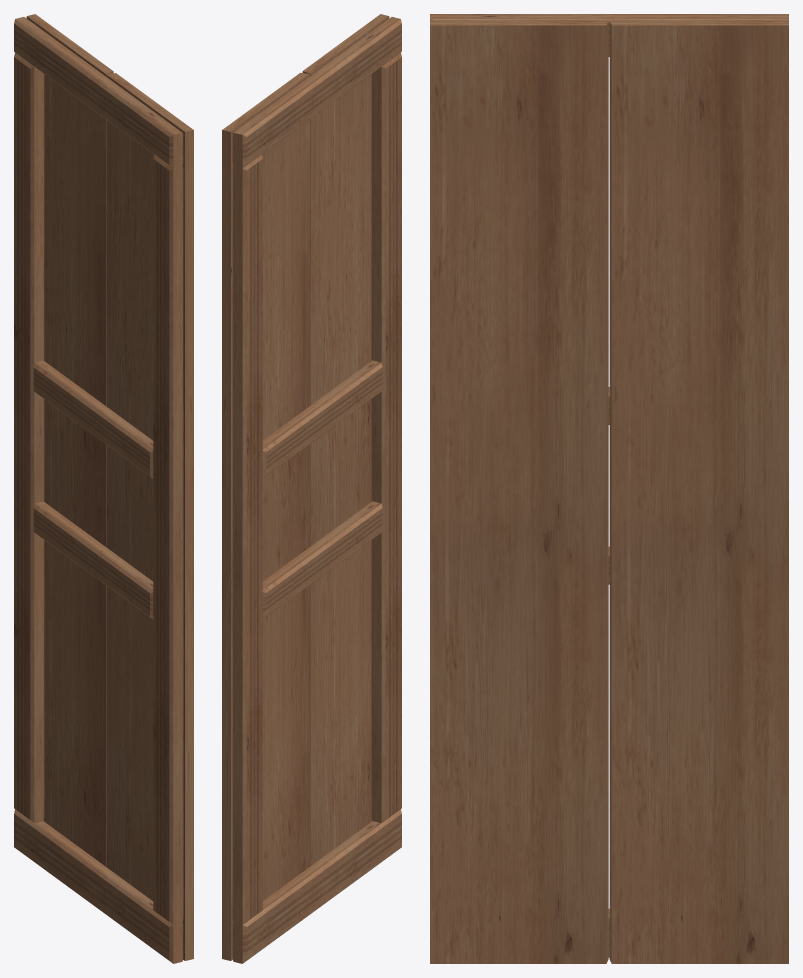
File: SM_JSH_DoorC.fbx
The picture shows the model from 3 angles, left to right: view 1: azimuth 30°, elevation 25°; view 2: azimuth 150°, elevation 25°; view 3: azimuth 270°, elevation 25°; orthographic projection. The views are drawn at different scales.
Parts seen in each view (by area): view 1: SM_JSH_DoorC; view 2: SM_JSH_DoorC; view 3: SM_JSH_DoorC.
Part boxes in pixels (left/top/right/bottom): SM_JSH_DoorC: left=14, top=14, right=193, bottom=963; SM_JSH_DoorC: left=222, top=14, right=401, bottom=963; SM_JSH_DoorC: left=430, top=14, right=788, bottom=963.
Bounding box in the file's own units: 4.59 × 55 × 159.
Materials: 1 (1 with a texture image).
